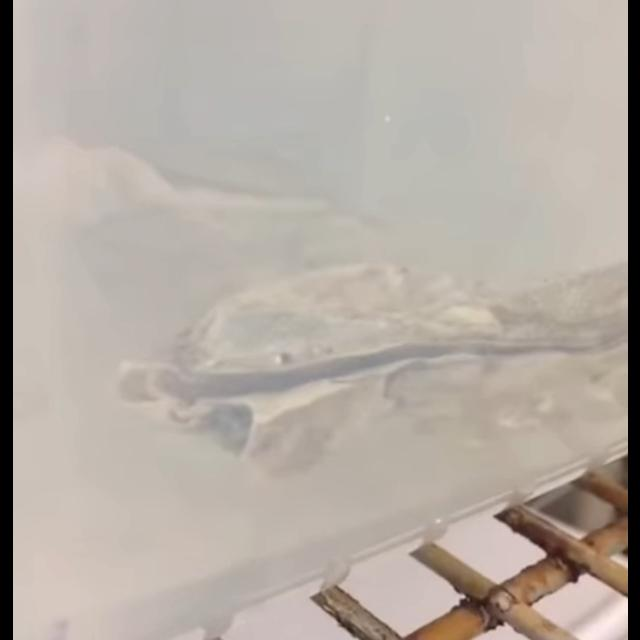Oyster-Indeterminate: (46, 127, 354, 250)
Oyster-Open: (107, 261, 628, 481)
